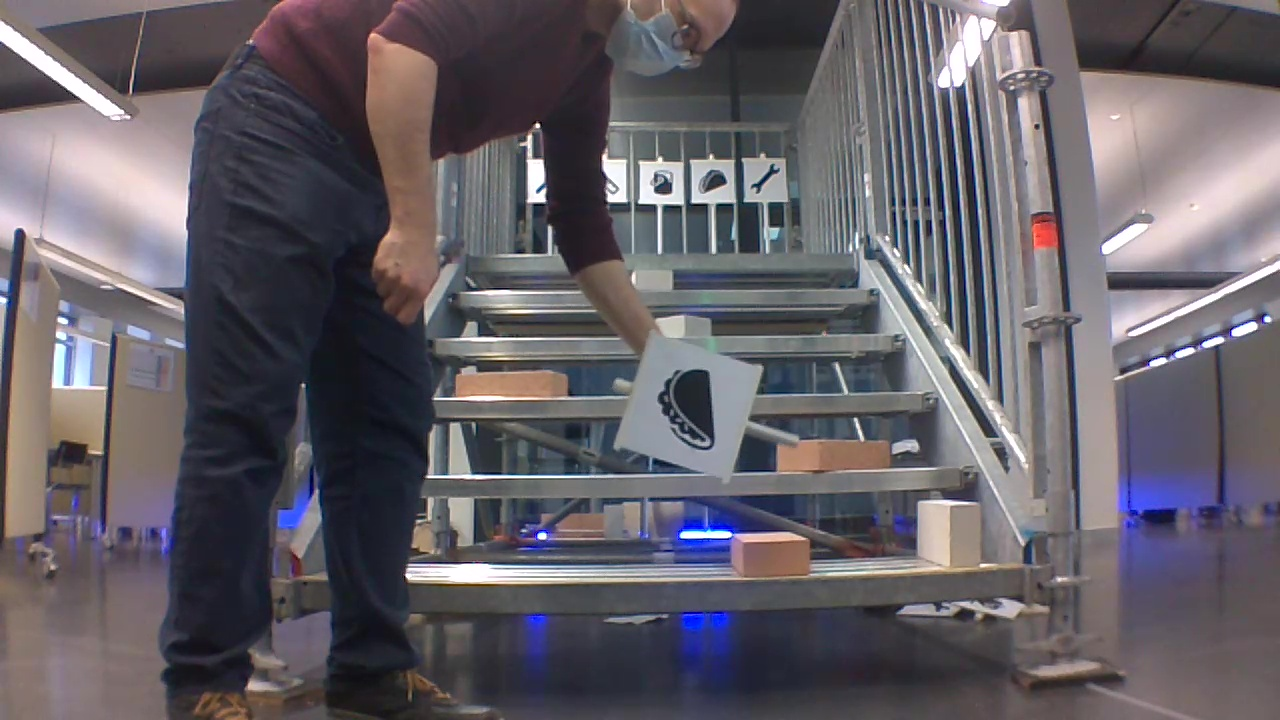brick: (919, 498, 981, 565), (734, 531, 808, 576), (777, 440, 887, 468), (457, 369, 565, 395), (662, 315, 708, 337), (635, 269, 673, 291)
bucket: (644, 168, 678, 197)
edge: (414, 565, 1026, 612), (431, 467, 976, 495)
taco: (646, 364, 723, 455), (694, 165, 728, 194)
wrench: (746, 158, 783, 197)
